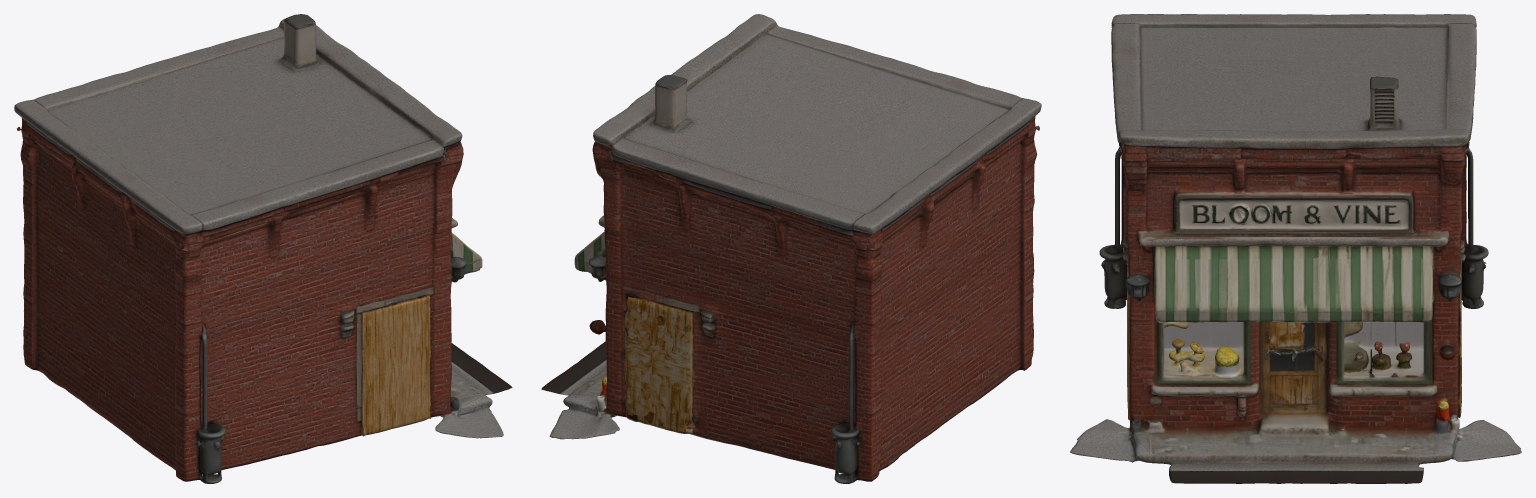
Rendered from florist.gltf.
3 renders of one model, left to right at view 1: azimuth 30°, elevation 25°; view 2: azimuth 150°, elevation 25°; view 3: azimuth 270°, elevation 25°, orthographic. The views are drawn at different scales.
Parts seen in each view (by area): view 1: tripo_node_6ff16594-c840-4bc6-858f-2909662adc45; view 2: tripo_node_6ff16594-c840-4bc6-858f-2909662adc45; view 3: tripo_node_6ff16594-c840-4bc6-858f-2909662adc45.
Part boxes in pixels (x1,y1,x2,y2): tripo_node_6ff16594-c840-4bc6-858f-2909662adc45: (14, 14, 512, 483); tripo_node_6ff16594-c840-4bc6-858f-2909662adc45: (541, 14, 1041, 483); tripo_node_6ff16594-c840-4bc6-858f-2909662adc45: (1070, 14, 1521, 483).
Bounding box in the file's own units: 0.9644 × 0.8313 × 0.9899.
Materials: 1 (1 with a texture image).
